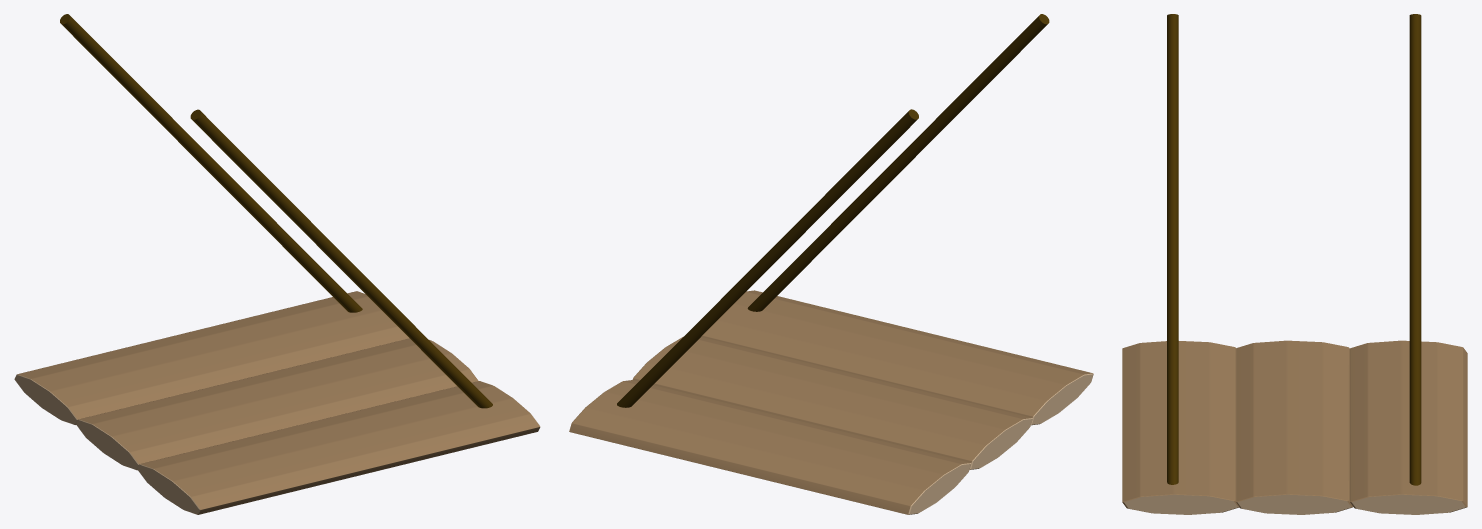
File: palanque.fbx
The picture shows the model from 3 angles, left to right: view 1: azimuth 30°, elevation 25°; view 2: azimuth 150°, elevation 25°; view 3: azimuth 270°, elevation 25°; orthographic projection. The views are drawn at different scales.
Parts seen in each view (by area): view 1: Object_5.013; view 2: Object_5.013; view 3: Object_5.013.
Part boxes in pixels (x1,y1,x2,y2): Object_5.013: [14, 14, 540, 514]; Object_5.013: [569, 14, 1093, 514]; Object_5.013: [1122, 14, 1467, 514].
Bounding box in the file's own units: 222 × 241 × 210.
